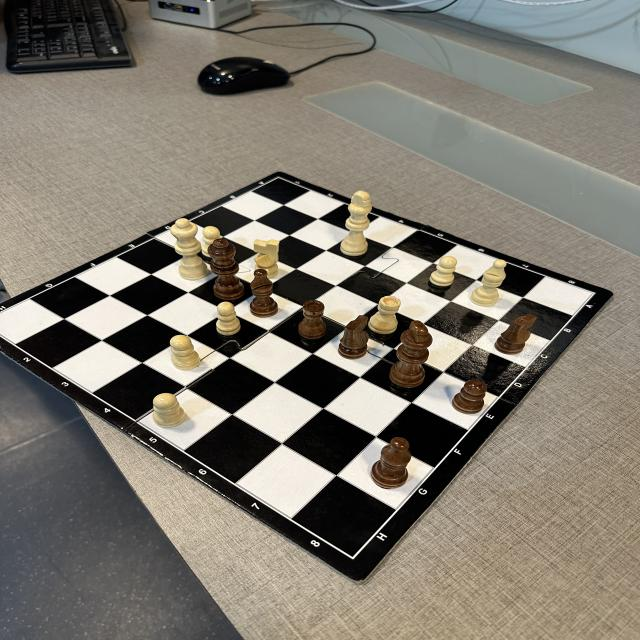Black-Bishop: (370, 437, 411, 489), (250, 269, 278, 317)
Black-King: (389, 320, 433, 388)
Black-Knight: (494, 313, 537, 355), (338, 314, 369, 360), (253, 238, 280, 278)
Black-Pawn: (452, 379, 488, 415)
Black-Queen: (208, 238, 245, 300)
Black-Rook: (298, 299, 327, 340)
White-Bishop: (470, 260, 508, 306)
White-King: (339, 190, 372, 256)
White-Pawn: (152, 392, 186, 428), (169, 335, 201, 370), (216, 301, 242, 336), (429, 256, 458, 287), (202, 226, 221, 243)
White-Queen: (170, 218, 209, 281)
White-Rook: (368, 296, 402, 334)
